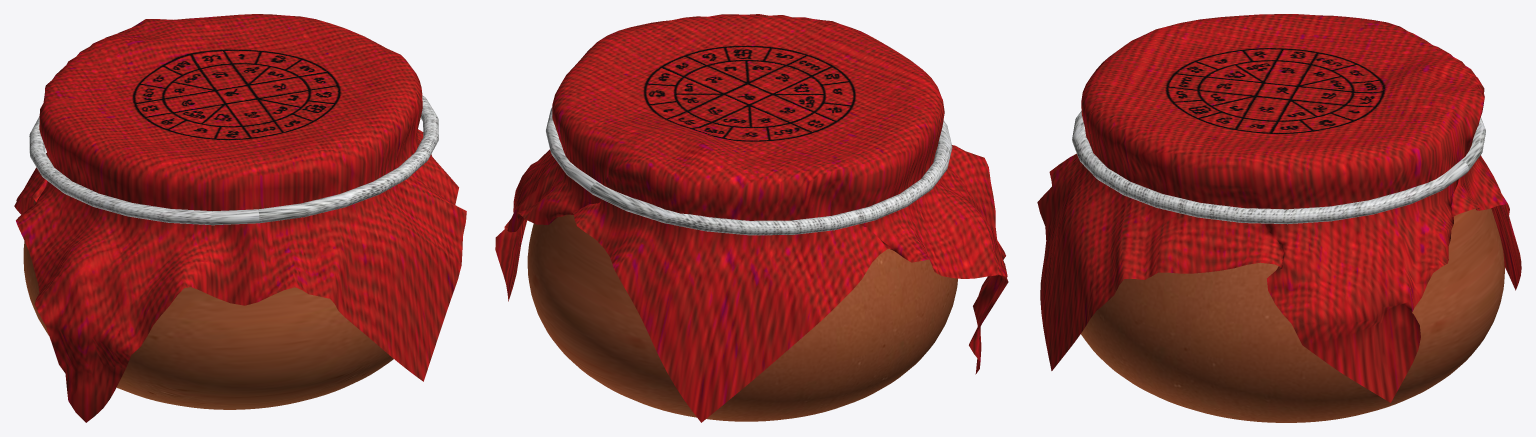
3 views of the same model, side by side, from view 1: azimuth 30°, elevation 25°; view 2: azimuth 150°, elevation 25°; view 3: azimuth 270°, elevation 25° (orthographic). The views are drawn at different scales.
Parts seen in each view (by area): view 1: jar; view 2: jar; view 3: jar.
Part boxes in pixels (x1,y1,x2,y2): jar: (14,14,466,422); jar: (495,14,1008,422); jar: (1037,14,1521,422).
Bounding box in the file's own units: 52.73 × 34.81 × 48.88.
1 material, 1 textured.
